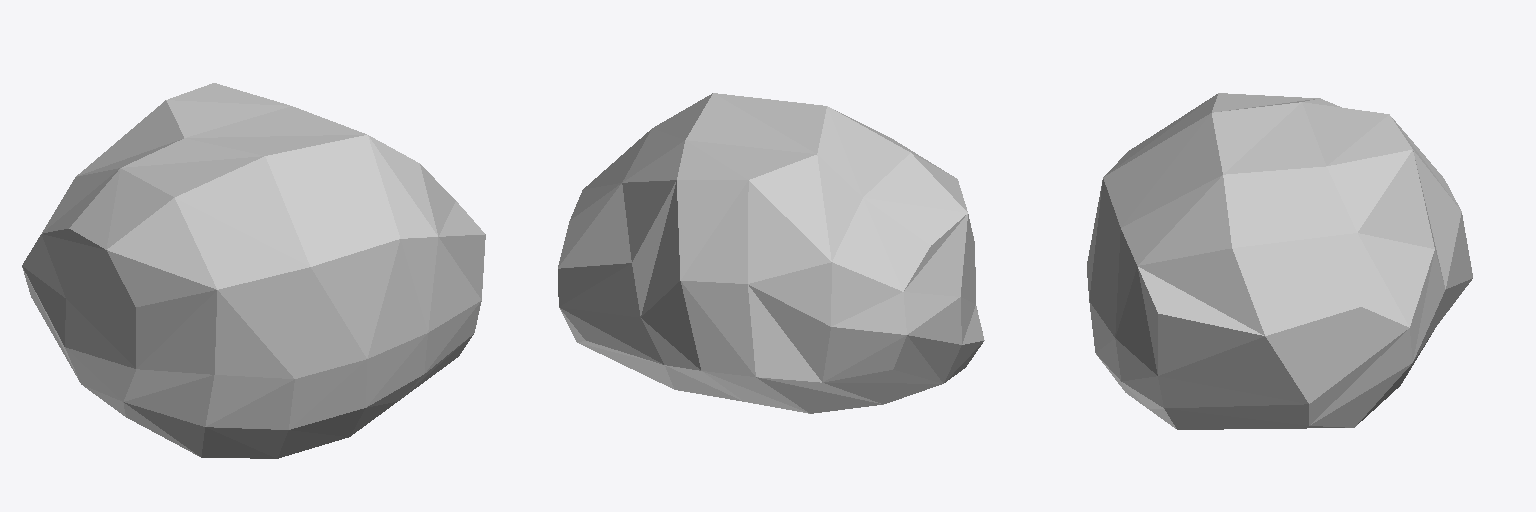
File: FB_rockBigThick_Env.obj
3 renders of one model, left to right at view 1: azimuth 30°, elevation 25°; view 2: azimuth 150°, elevation 25°; view 3: azimuth 270°, elevation 25°, orthographic.
Parts seen in each view (by area): view 1: rock_big_thick; view 2: rock_big_thick; view 3: rock_big_thick.
Part boxes in pixels (left/top/right/bottom): rock_big_thick: left=22, top=83, right=485, bottom=458; rock_big_thick: left=558, top=93, right=984, bottom=413; rock_big_thick: left=1087, top=93, right=1472, bottom=429.
Bounding box in the file's own units: 405 × 263 × 352.